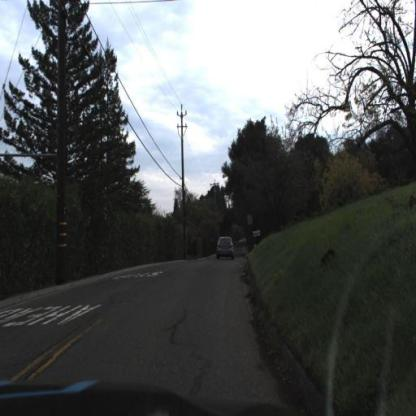car: (217, 234, 238, 263)
